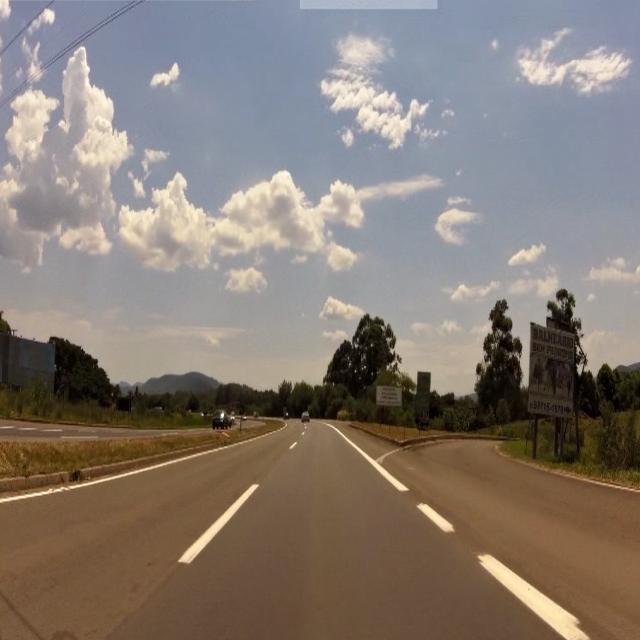E-5: (378, 384, 404, 408)
